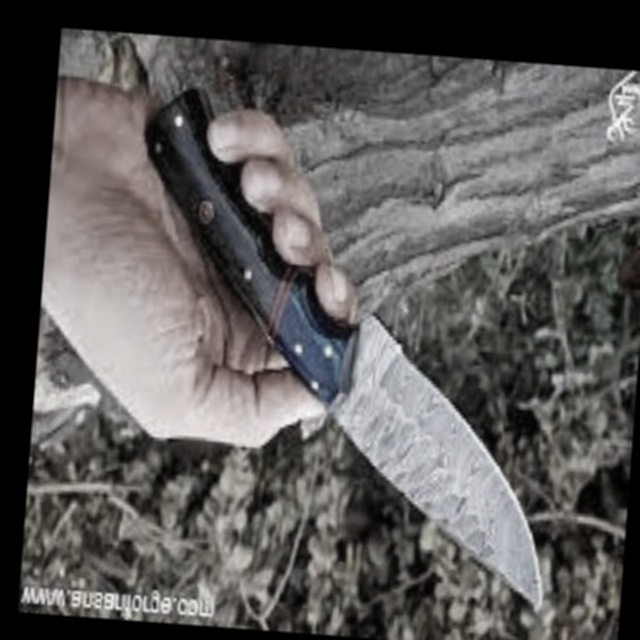Sharp-Object: (113, 84, 579, 603)
